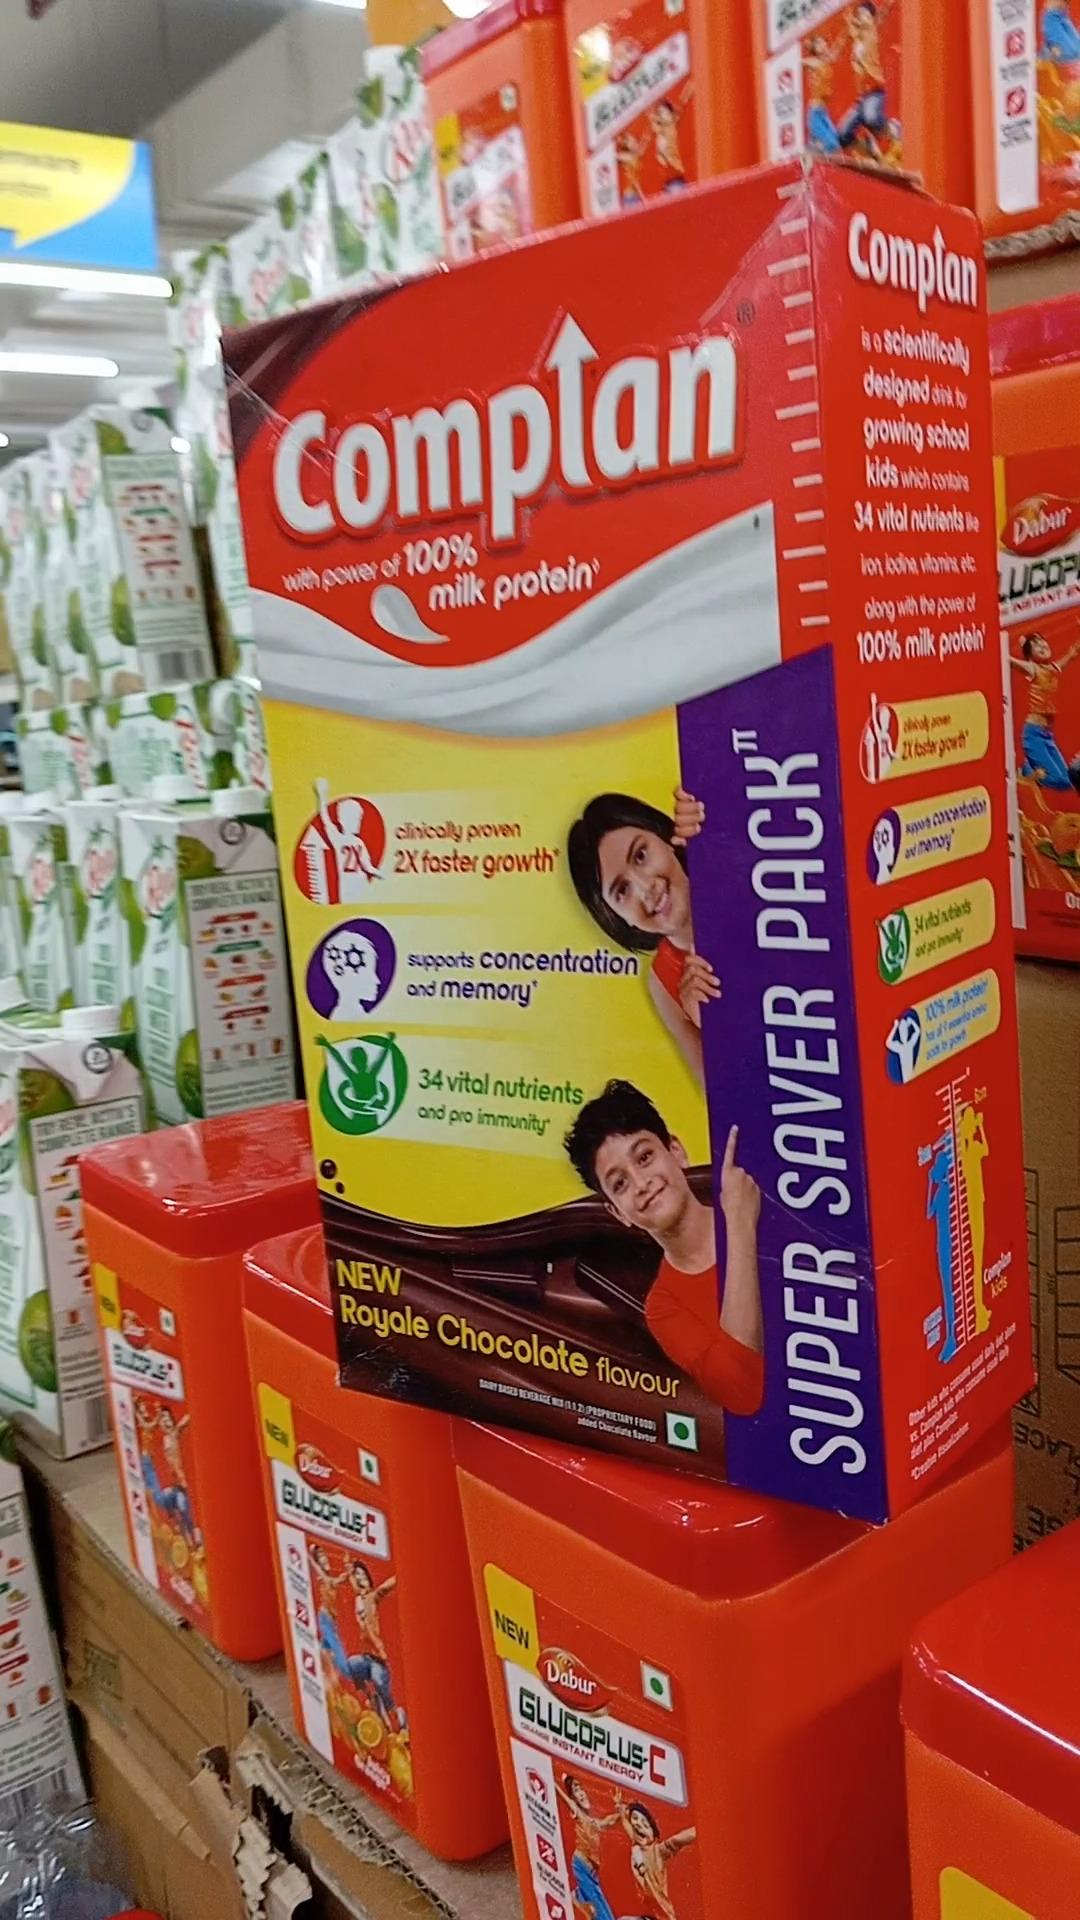COMPLAN_CHOCOLATE_1_KG_PACK: (247, 186, 861, 1511)
